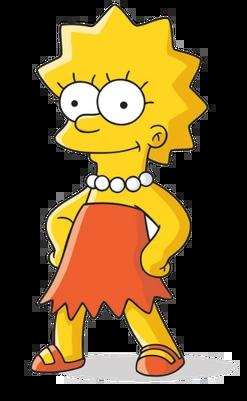Lisa: (16, 3, 223, 396)
